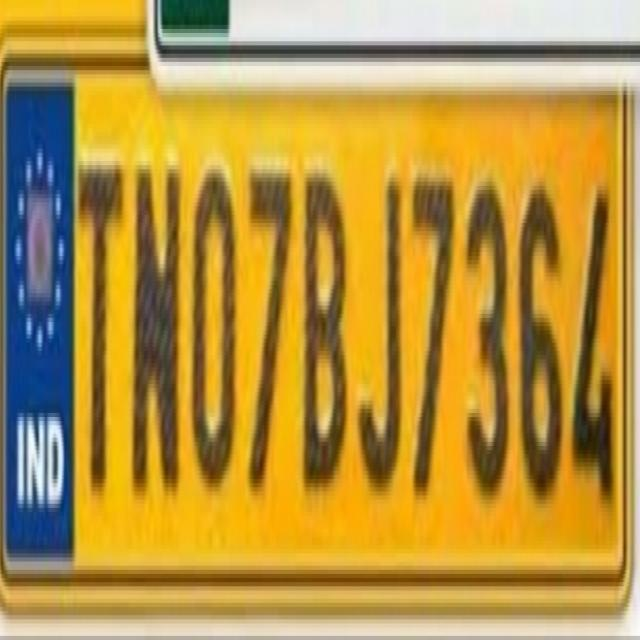0: (192, 139, 238, 490)
3: (462, 151, 511, 502)
4: (568, 146, 618, 517)
6: (516, 154, 568, 522)
7: (246, 121, 294, 514), (406, 143, 456, 518)
B: (299, 154, 353, 512)
J: (354, 153, 404, 510)
N: (128, 124, 188, 519)
T: (74, 115, 128, 518)
